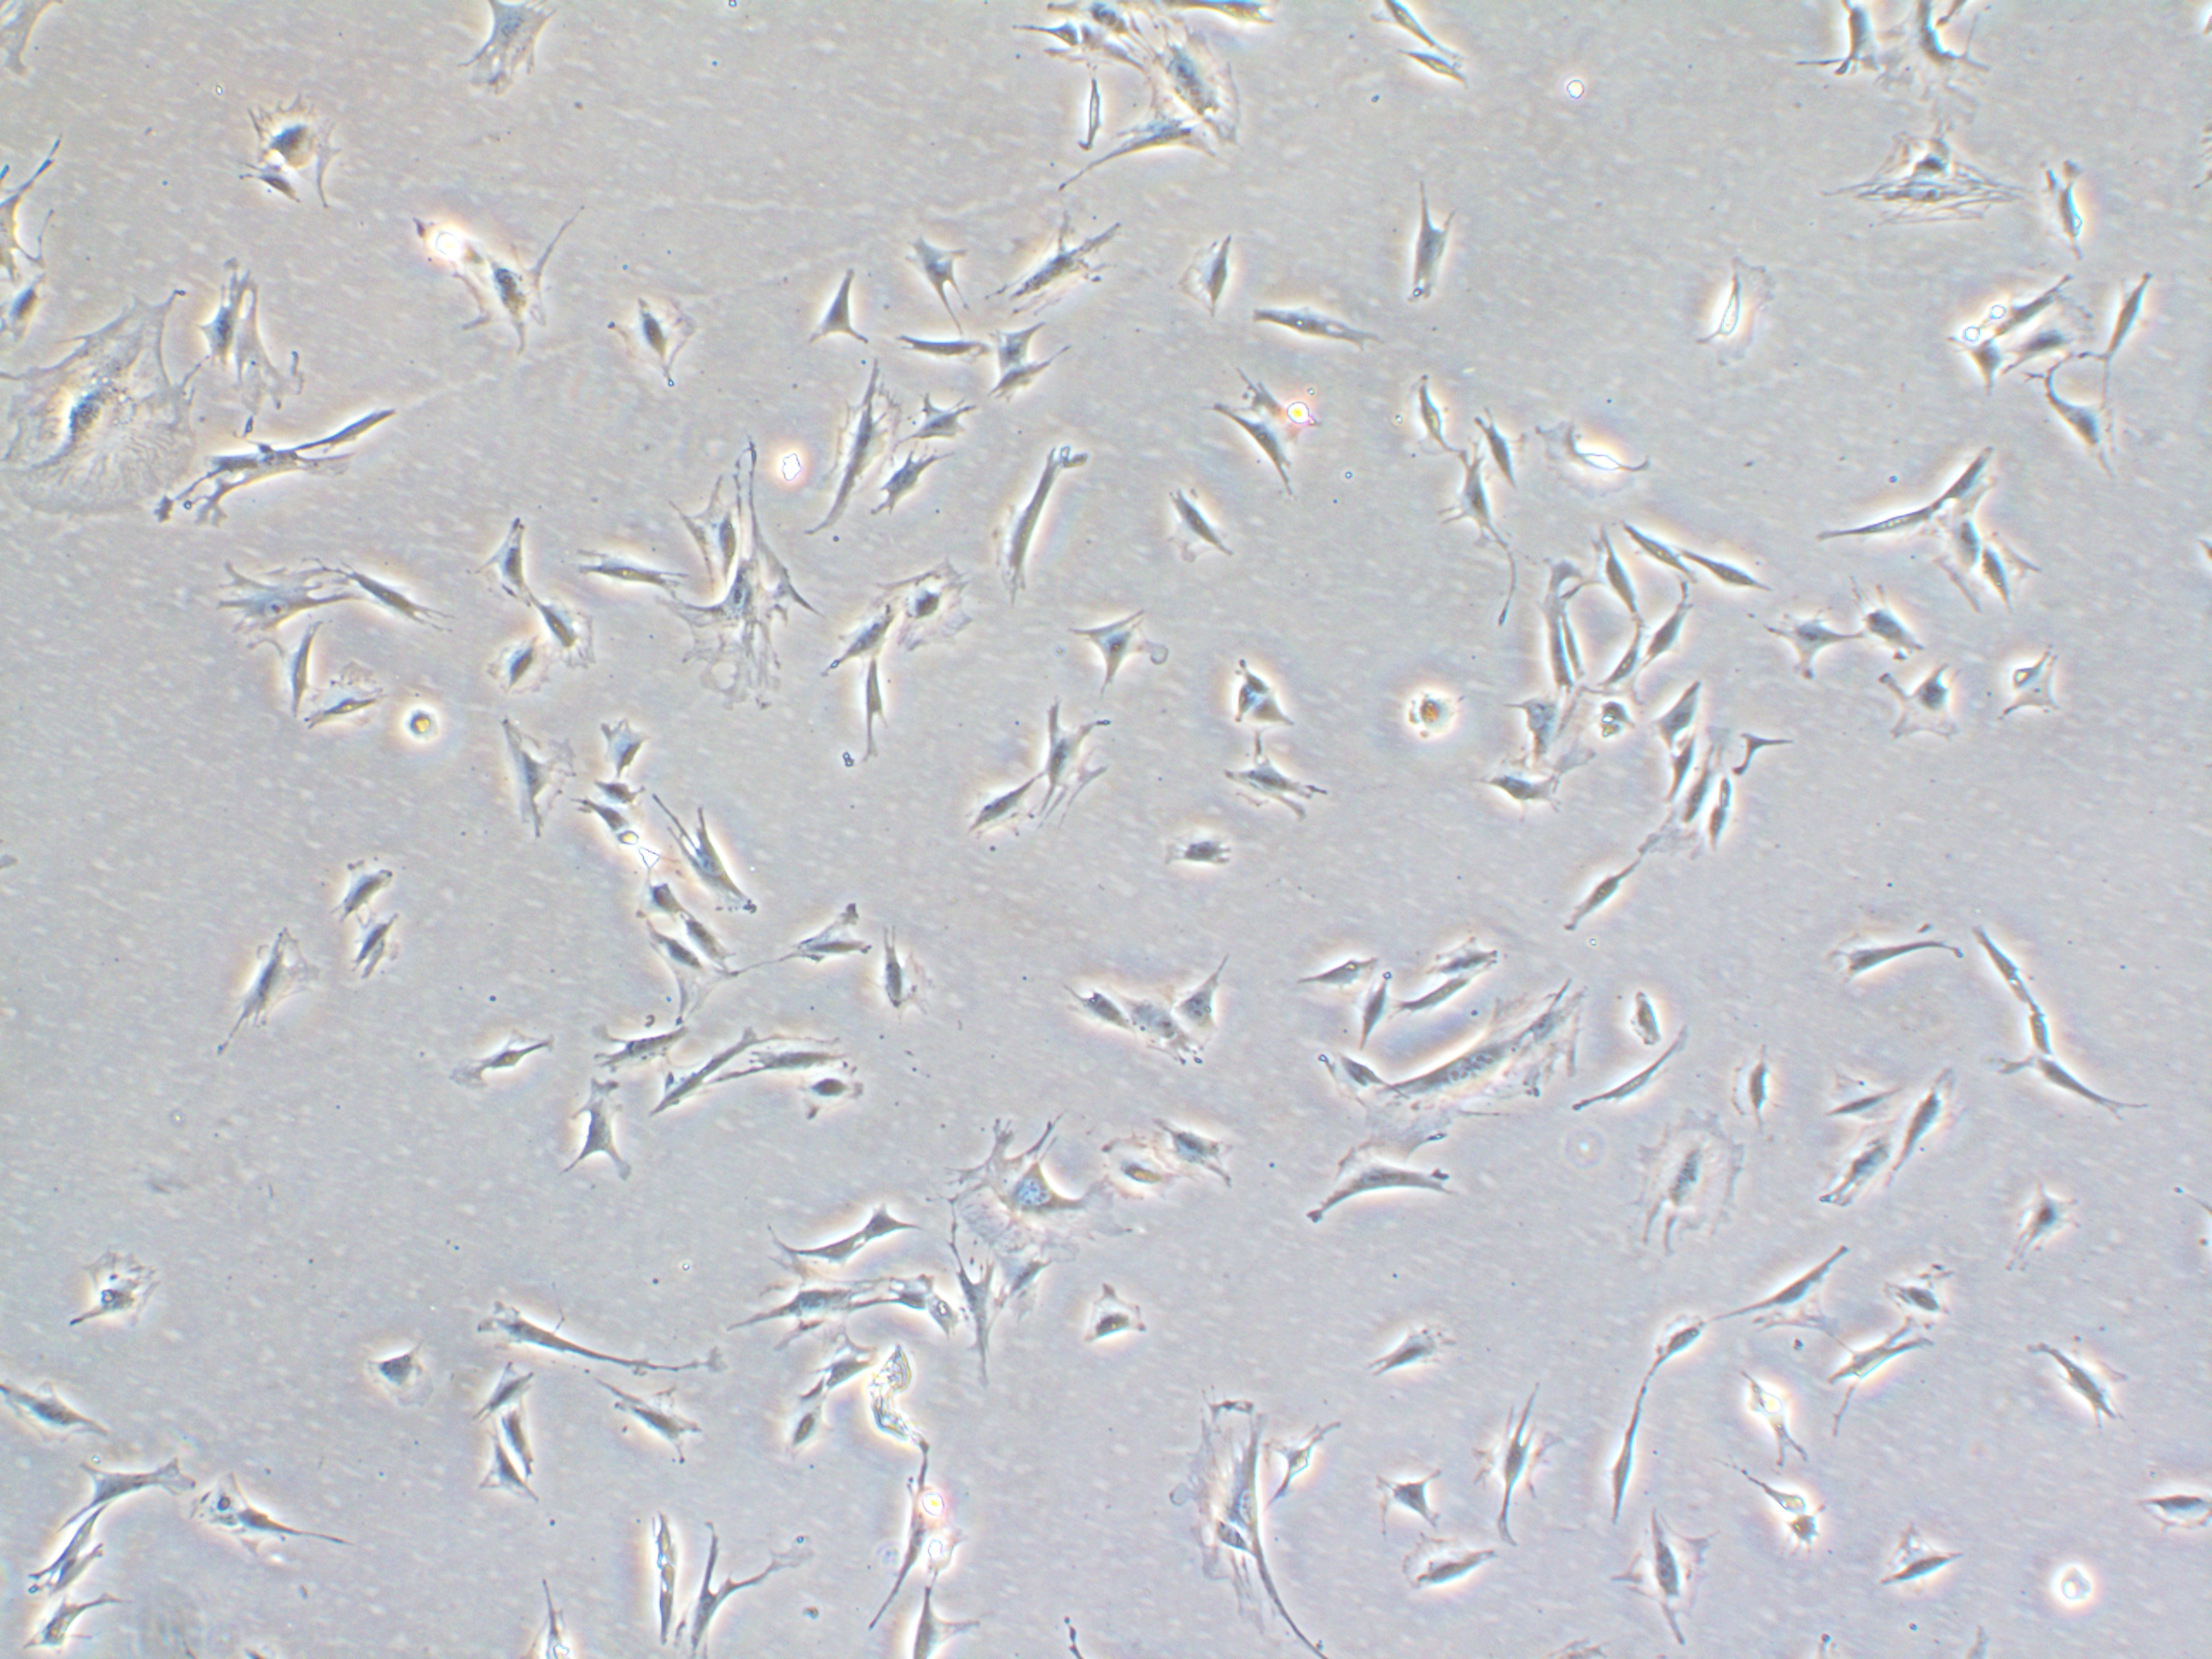small: (1385, 669, 1482, 770), (369, 674, 475, 758)
spread: (1324, 974, 1608, 1155), (0, 274, 206, 521), (1144, 1378, 1320, 1659), (639, 450, 813, 716), (930, 1117, 1106, 1300), (1096, 7, 1291, 169), (1836, 132, 2026, 260), (1618, 1108, 1759, 1260), (185, 538, 354, 655), (233, 80, 381, 206), (444, 237, 578, 366), (589, 265, 705, 403), (878, 535, 984, 680), (421, 2, 554, 117), (732, 1263, 904, 1349), (488, 708, 583, 838)
